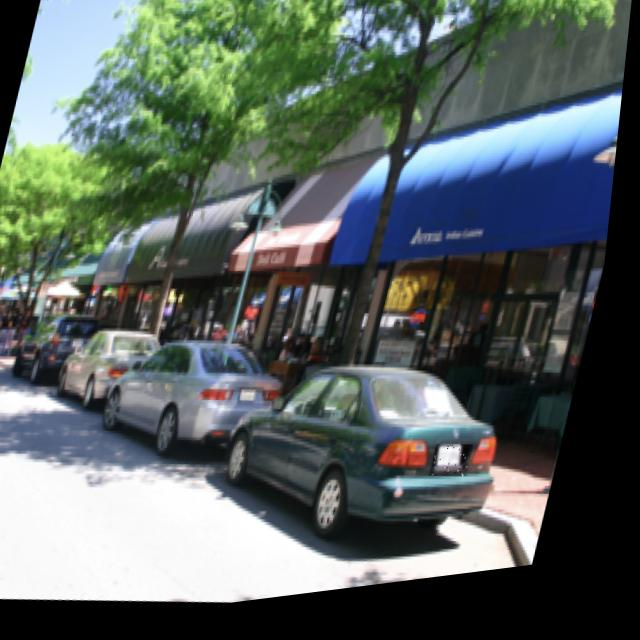license_plate: (440, 453, 485, 494)
